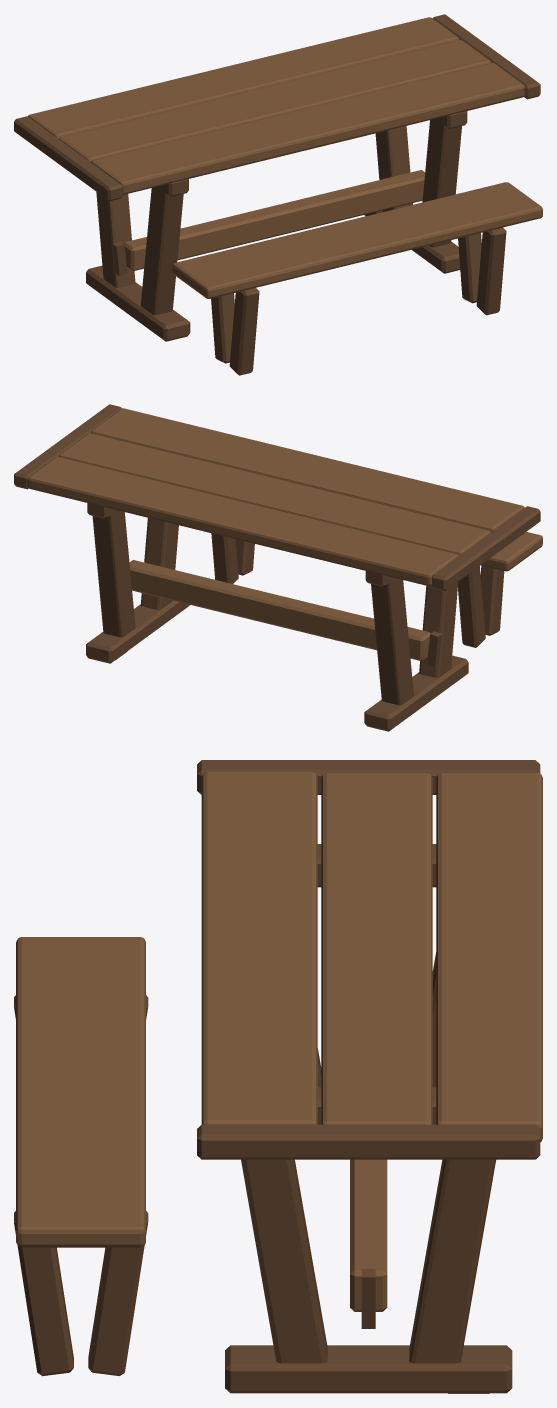
Rendered from SM_Furn_TrestleTable_01.fbx.
3 renders of one model, top to bottom at view 1: azimuth 30°, elevation 25°; view 2: azimuth 150°, elevation 25°; view 3: azimuth 270°, elevation 25°, orthographic. The views are drawn at different scales.
Visible parts, largest first — view 1: SM_Furn_TrestleTable_01_TopPlank0, SM_Furn_TrestleTable_01_BenchTop, SM_Furn_TrestleTable_01_TopPlank1, SM_Furn_TrestleTable_01_TopPlank2, SM_Furn_TrestleTable_01_Stretcher, SM_Furn_TrestleTable_01_Leg00, SM_Furn_TrestleTable_01_EndCap-1, SM_Furn_TrestleTable_01_Leg10, SM_Furn_TrestleTable_01_Foot0, SM_Furn_TrestleTable_01_Leg01, SM_Furn_TrestleTable_01_BenchLeg00, SM_Furn_TrestleTable_01_BenchLeg10 (+5 smaller); view 2: SM_Furn_TrestleTable_01_TopPlank2, SM_Furn_TrestleTable_01_TopPlank0, SM_Furn_TrestleTable_01_TopPlank1, SM_Furn_TrestleTable_01_Stretcher, SM_Furn_TrestleTable_01_Leg11, SM_Furn_TrestleTable_01_Leg01, SM_Furn_TrestleTable_01_EndCap-1, SM_Furn_TrestleTable_01_Foot0, SM_Furn_TrestleTable_01_Leg00, SM_Furn_TrestleTable_01_Foot1, SM_Furn_TrestleTable_01_Leg10, SM_Furn_TrestleTable_01_BenchLeg01 (+6 smaller); view 3: SM_Furn_TrestleTable_01_TopPlank0, SM_Furn_TrestleTable_01_BenchTop, SM_Furn_TrestleTable_01_TopPlank1, SM_Furn_TrestleTable_01_TopPlank2, SM_Furn_TrestleTable_01_EndCap1, SM_Furn_TrestleTable_01_Foot1, SM_Furn_TrestleTable_01_Leg11, SM_Furn_TrestleTable_01_Leg10, SM_Furn_TrestleTable_01_Stretcher, SM_Furn_TrestleTable_01_BenchLeg11, SM_Furn_TrestleTable_01_BenchLeg10, SM_Furn_TrestleTable_01_EndCap-1 (+1 smaller).
Boxes of the visible parts, box(x1,y1,x2,y2) form: SM_Furn_TrestleTable_01_TopPlank0: box(91, 63, 524, 194); SM_Furn_TrestleTable_01_BenchTop: box(172, 182, 542, 298); SM_Furn_TrestleTable_01_TopPlank1: box(59, 40, 490, 162); SM_Furn_TrestleTable_01_TopPlank2: box(28, 17, 458, 138); SM_Furn_TrestleTable_01_Stretcher: box(124, 170, 424, 271); SM_Furn_TrestleTable_01_Leg00: box(140, 187, 183, 315); SM_Furn_TrestleTable_01_EndCap-1: box(14, 116, 122, 201); SM_Furn_TrestleTable_01_Leg10: box(422, 117, 461, 247); SM_Furn_TrestleTable_01_Foot0: box(86, 265, 190, 341); SM_Furn_TrestleTable_01_Leg01: box(96, 192, 135, 287); SM_Furn_TrestleTable_01_BenchLeg00: box(229, 288, 259, 375); SM_Furn_TrestleTable_01_BenchLeg10: box(476, 227, 506, 315); SM_Furn_TrestleTable_01_TopPlank2: box(27, 457, 458, 586); SM_Furn_TrestleTable_01_TopPlank0: box(90, 408, 524, 532); SM_Furn_TrestleTable_01_TopPlank1: box(59, 433, 490, 555); SM_Furn_TrestleTable_01_Stretcher: box(129, 560, 430, 661); SM_Furn_TrestleTable_01_Leg11: box(92, 509, 135, 637); SM_Furn_TrestleTable_01_Leg01: box(371, 578, 413, 705); SM_Furn_TrestleTable_01_EndCap-1: box(431, 506, 540, 590); SM_Furn_TrestleTable_01_Foot0: box(364, 655, 468, 731); SM_Furn_TrestleTable_01_Leg00: box(419, 582, 458, 677); SM_Furn_TrestleTable_01_Foot1: box(86, 600, 189, 663); SM_Furn_TrestleTable_01_Leg10: box(140, 518, 178, 609); SM_Furn_TrestleTable_01_BenchLeg01: box(458, 566, 485, 647); SM_Furn_TrestleTable_01_TopPlank0: box(201, 772, 317, 1124); SM_Furn_TrestleTable_01_BenchTop: box(16, 937, 145, 1247); SM_Furn_TrestleTable_01_TopPlank1: box(321, 773, 432, 1124); SM_Furn_TrestleTable_01_TopPlank2: box(436, 772, 542, 1142); SM_Furn_TrestleTable_01_EndCap1: box(197, 1124, 540, 1159); SM_Furn_TrestleTable_01_Foot1: box(225, 1345, 512, 1393); SM_Furn_TrestleTable_01_Leg11: box(409, 1159, 495, 1363); SM_Furn_TrestleTable_01_Leg10: box(241, 1159, 327, 1363); SM_Furn_TrestleTable_01_Stretcher: box(350, 1159, 387, 1311); SM_Furn_TrestleTable_01_BenchLeg11: box(88, 1211, 148, 1375); SM_Furn_TrestleTable_01_BenchLeg10: box(14, 1211, 73, 1376); SM_Furn_TrestleTable_01_EndCap-1: box(197, 760, 540, 794).
Bounding box in the file's own units: 1.93 × 0.7549 × 1.14.
